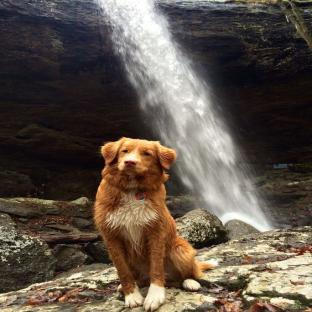Animal: (94, 137, 217, 312)
